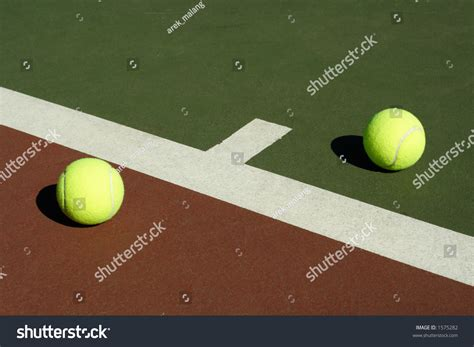tennis_ball: (55, 156, 124, 223), (363, 108, 426, 170)
